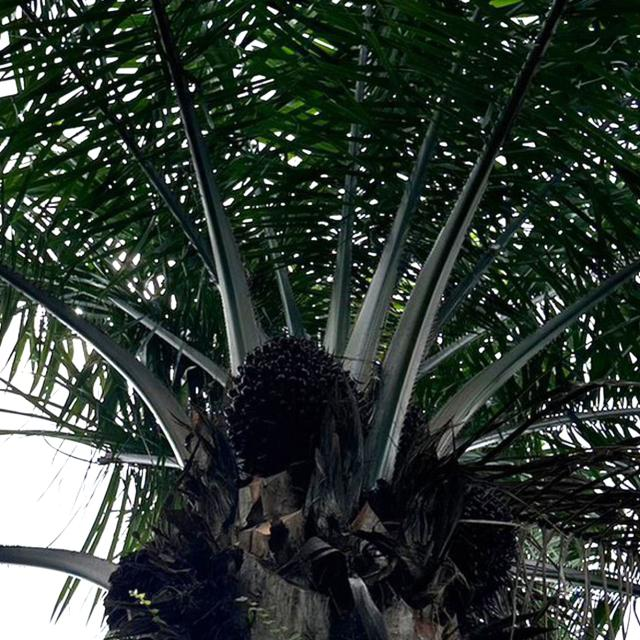ripe: (226, 323, 359, 455)
